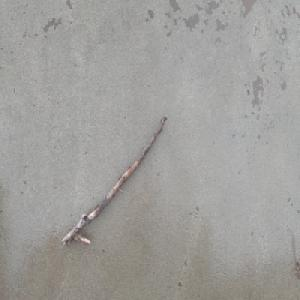Wood: (60, 113, 168, 248)
